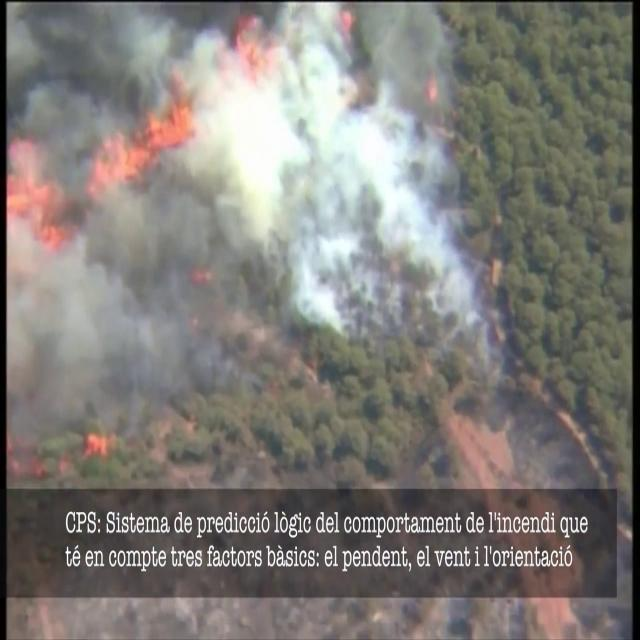Fire: (7, 106, 193, 242)
Smoke: (7, 3, 507, 492)
